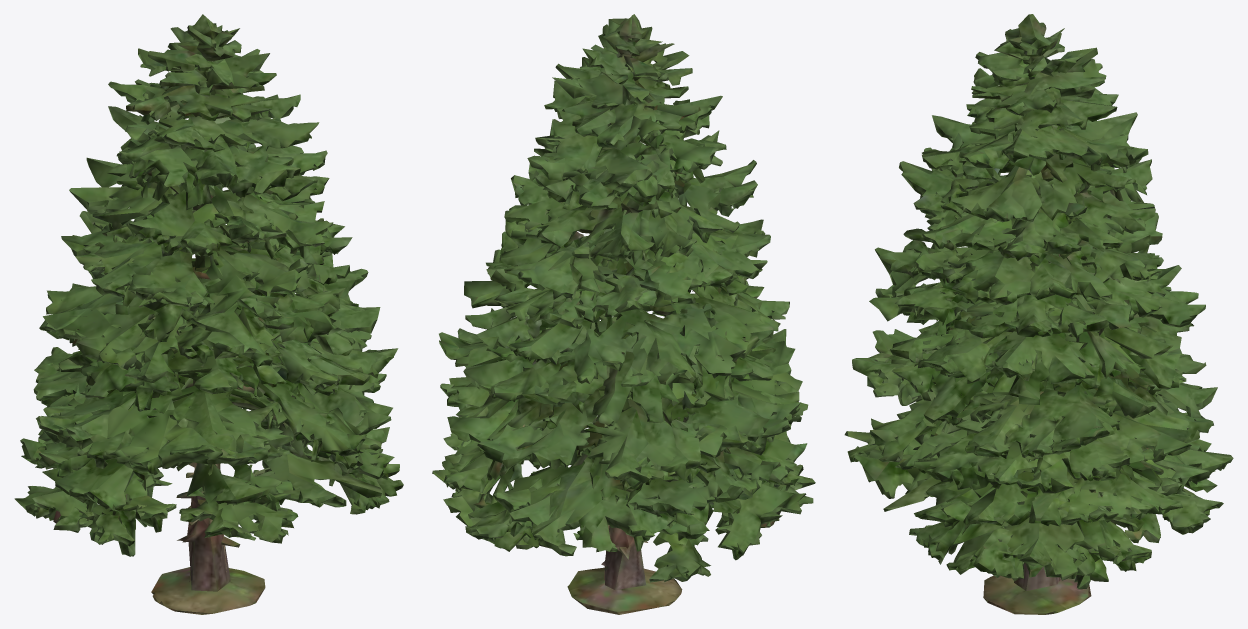
Rendered from fir-tree.glb.
3 views of the same model, side by side, from view 1: azimuth 30°, elevation 25°; view 2: azimuth 150°, elevation 25°; view 3: azimuth 270°, elevation 25° (orthographic).
Visible parts, largest first — view 1: geometry_0; view 2: geometry_0; view 3: geometry_0.
Part boxes in pixels (x1,y1,x2,y2): geometry_0: (14,14,403,614); geometry_0: (432,14,815,614); geometry_0: (844,14,1233,614).
Bounding box in the file's own units: 16.1 × 24.93 × 15.3.
1 material, 1 textured.
